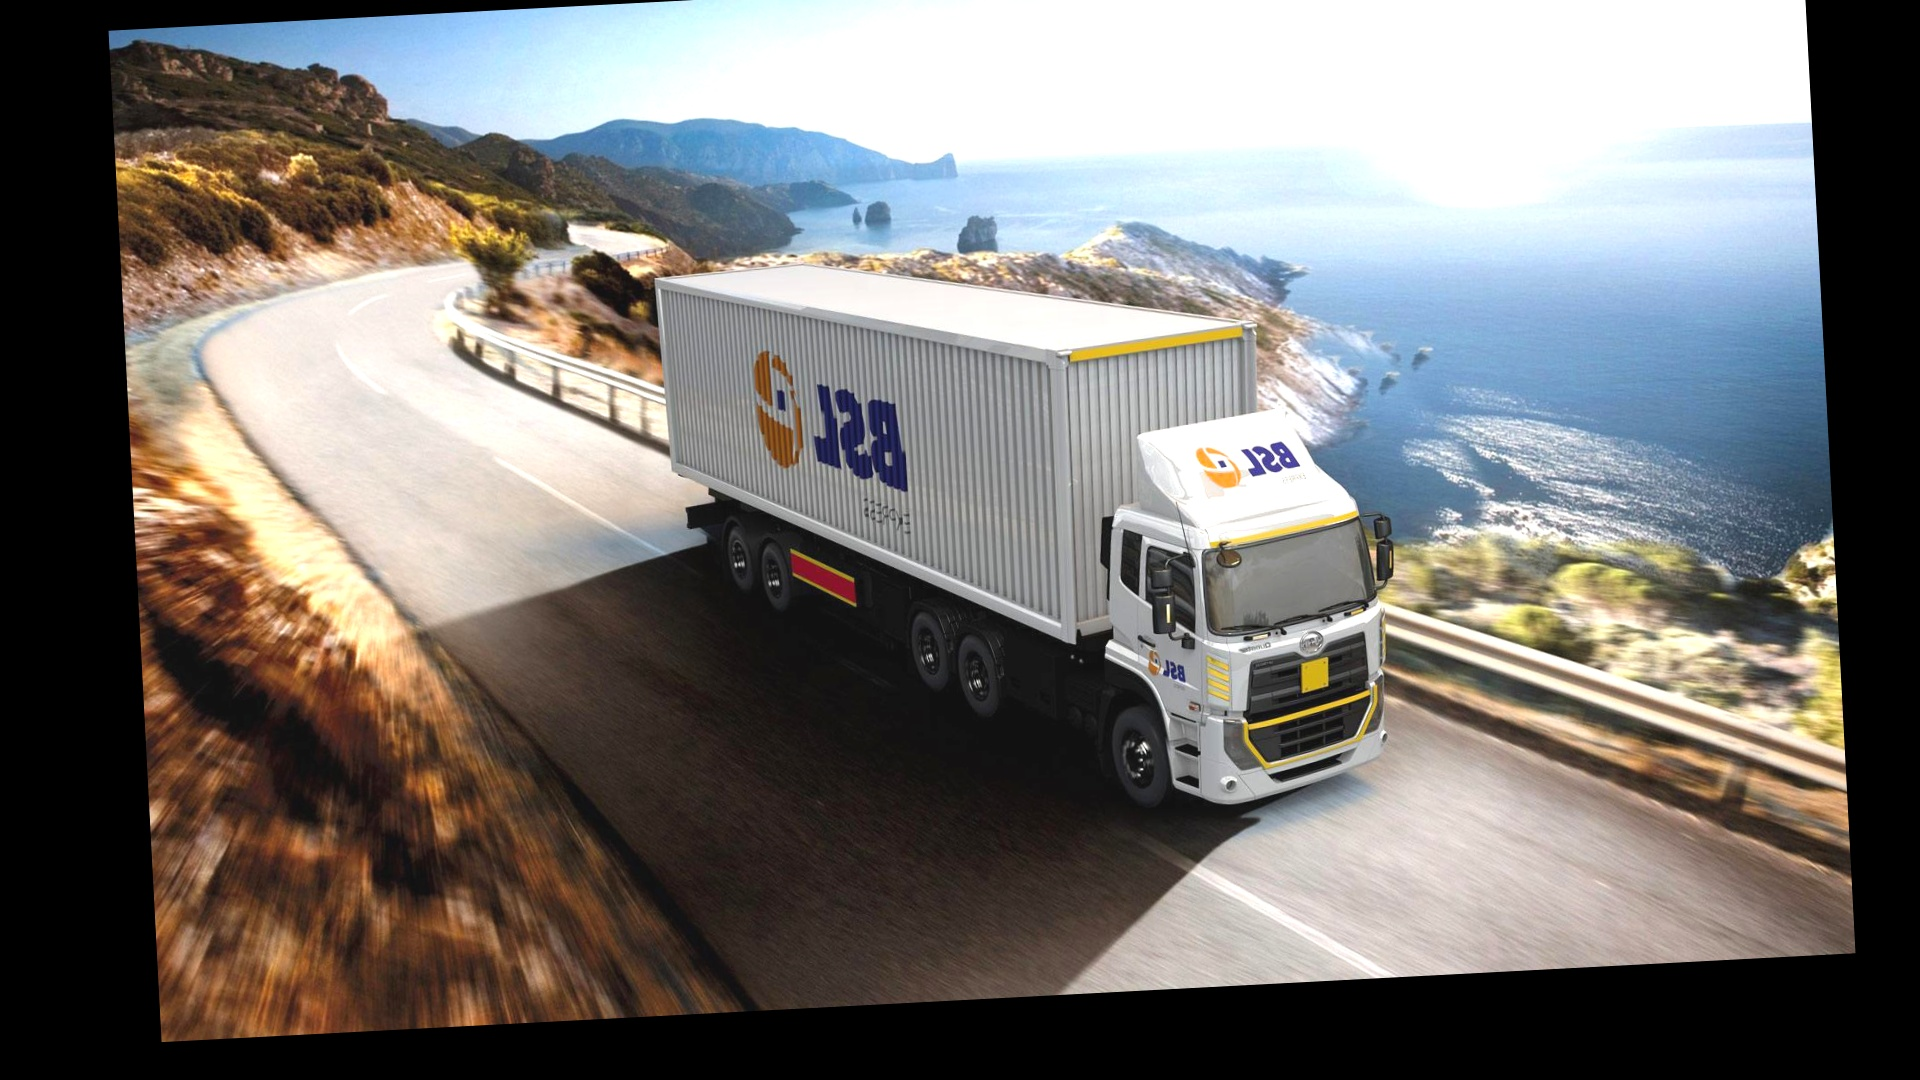truck: (653, 237, 1394, 843)
